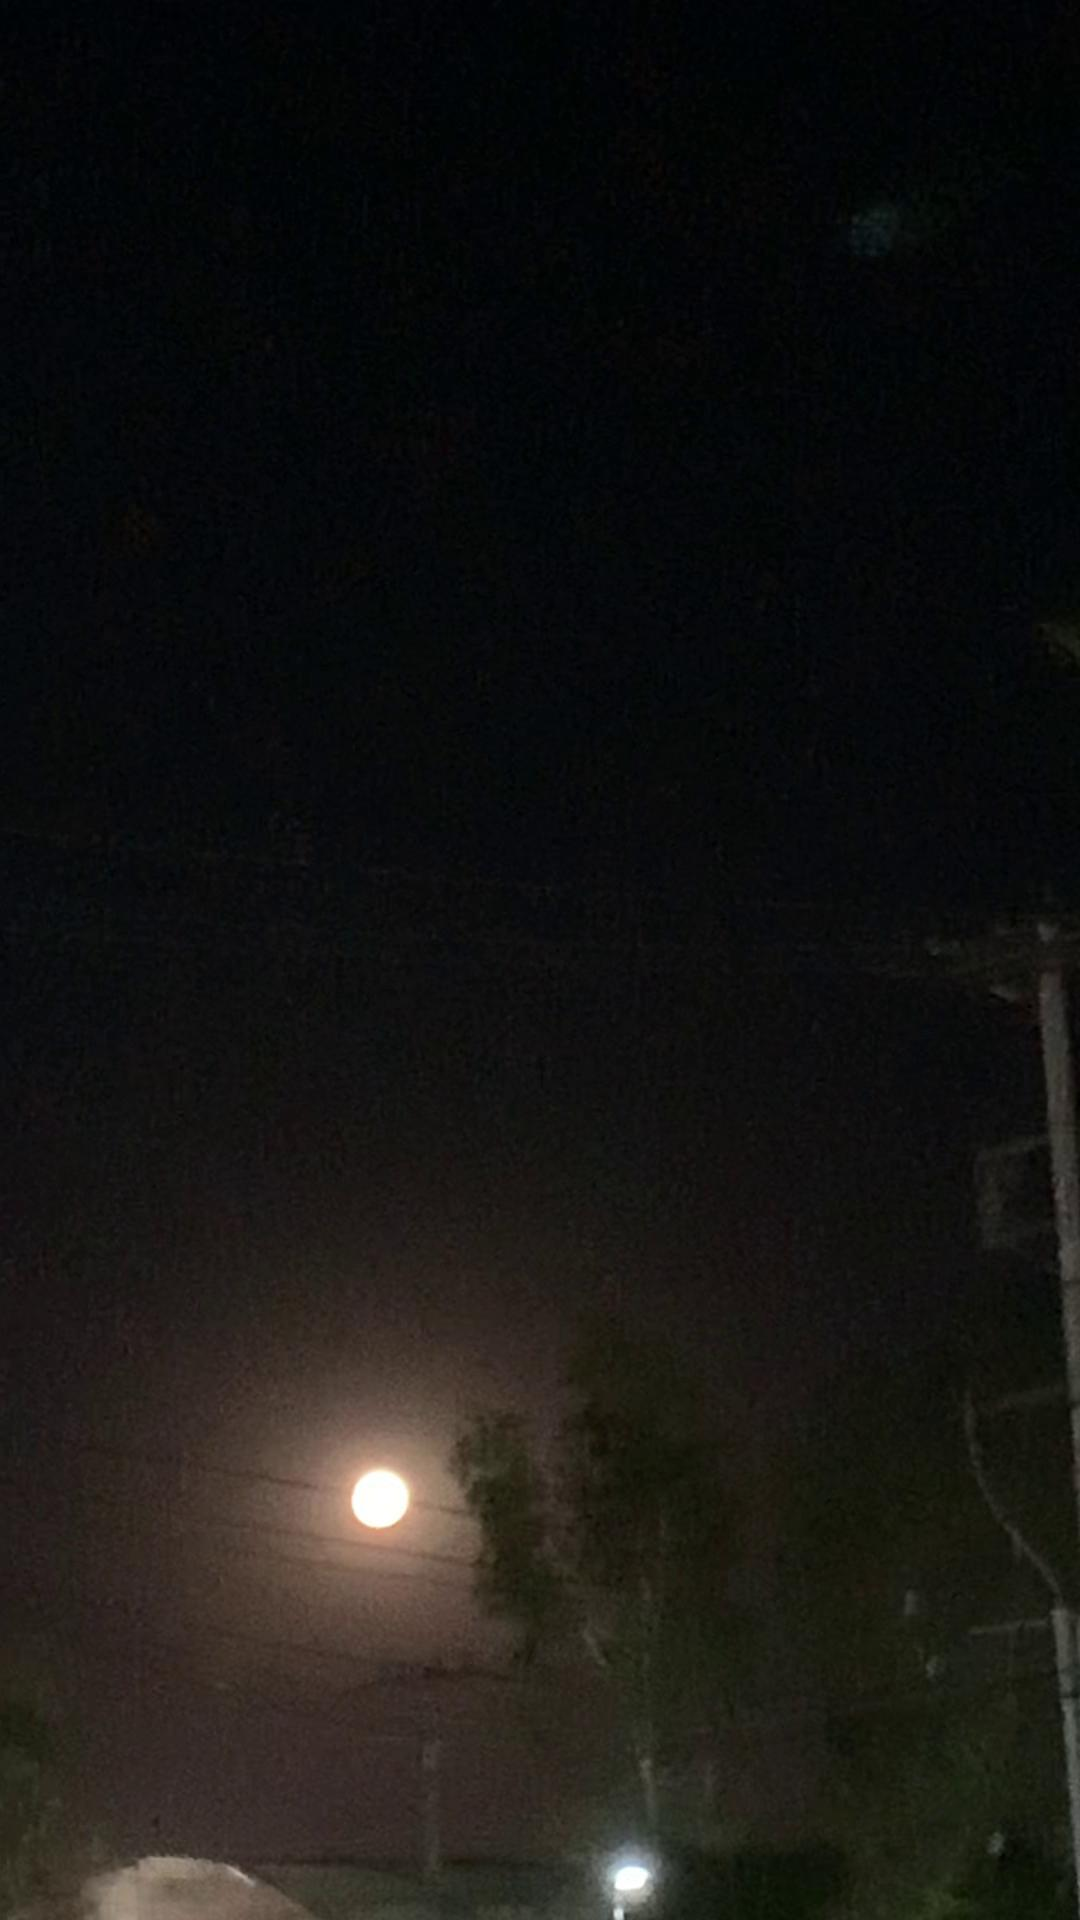moon: (324, 1457, 414, 1534)
